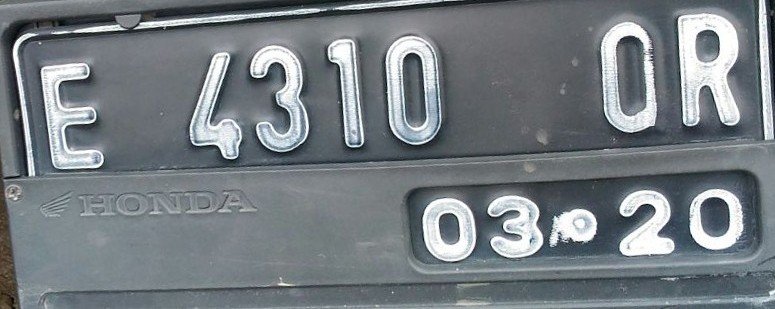plate: (13, 1, 775, 269)
